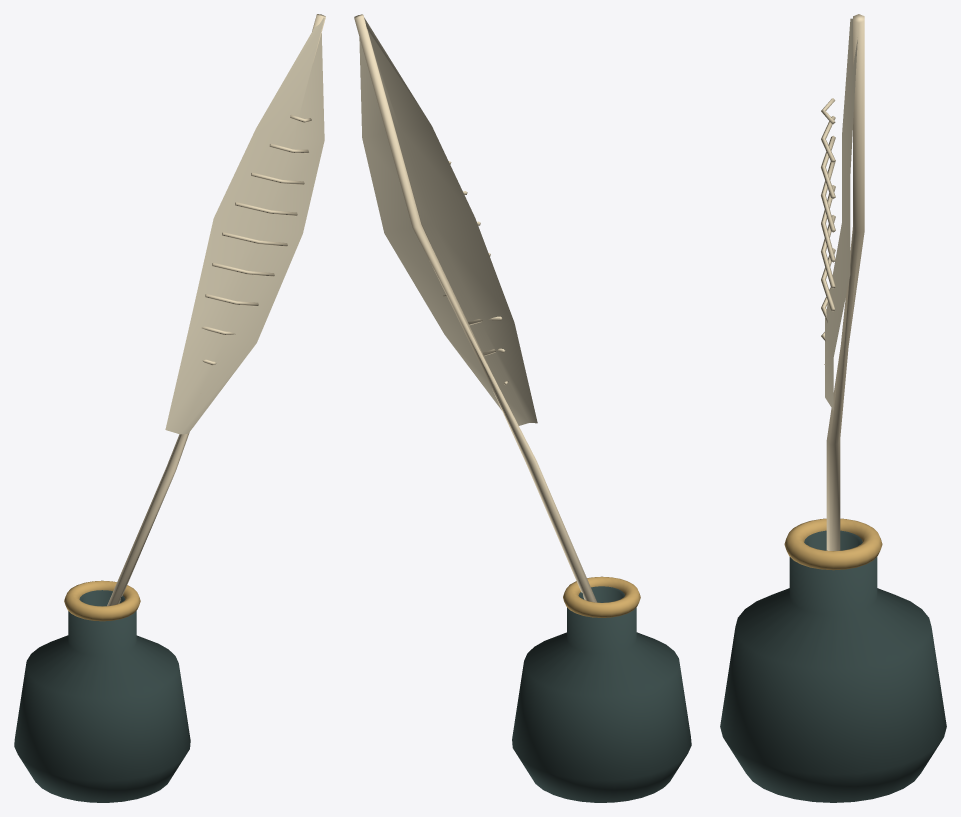
File: quill-inkwell.glb
3 views of the same model, side by side, from view 1: azimuth 30°, elevation 25°; view 2: azimuth 150°, elevation 25°; view 3: azimuth 270°, elevation 25° (orthographic). The views are drawn at different scales.
Parts seen in each view (by area): view 1: quill-inkwell__Visual_matte, quill-inkwell__Visual_glaze, quill-inkwell__Visual_metal; view 2: quill-inkwell__Visual_matte, quill-inkwell__Visual_glaze, quill-inkwell__Visual_metal; view 3: quill-inkwell__Visual_glaze, quill-inkwell__Visual_matte, quill-inkwell__Visual_metal.
Part boxes in pixels (x1,y1,x2,y2): quill-inkwell__Visual_matte: (107, 14, 325, 605); quill-inkwell__Visual_glaze: (14, 590, 190, 802); quill-inkwell__Visual_metal: (64, 580, 140, 621); quill-inkwell__Visual_matte: (354, 14, 597, 602); quill-inkwell__Visual_glaze: (512, 586, 691, 802); quill-inkwell__Visual_metal: (563, 576, 640, 617); quill-inkwell__Visual_glaze: (720, 530, 946, 802); quill-inkwell__Visual_matte: (821, 14, 864, 550); quill-inkwell__Visual_metal: (784, 518, 882, 570).
Size of the model in its own units: 0.2708 by 0.5812 by 0.134.
